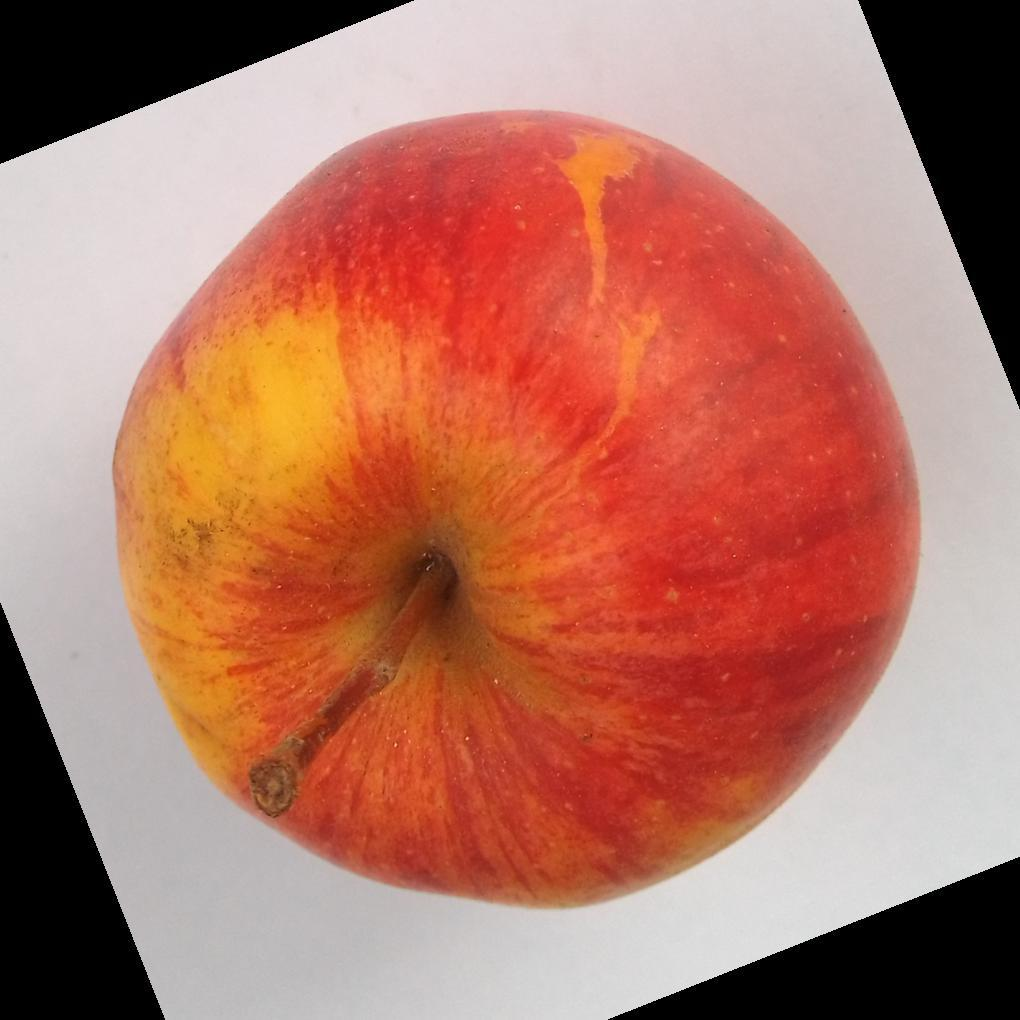FreshGuava: (109, 111, 922, 914)
